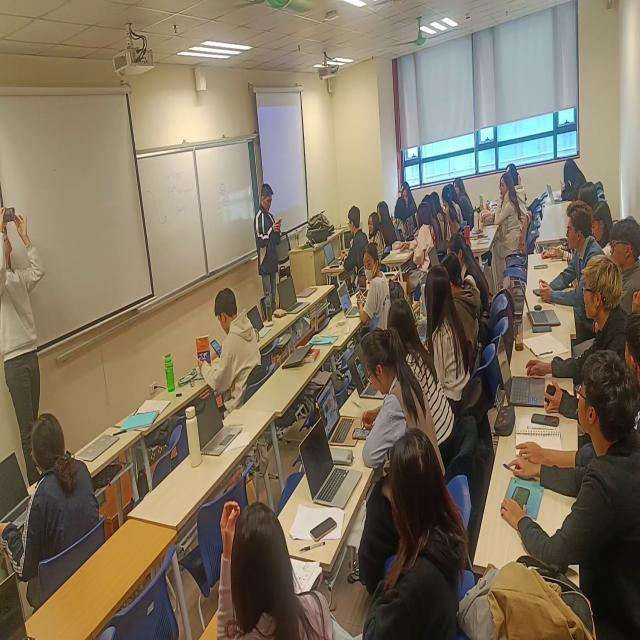raise_hand: (213, 494, 359, 640)
raise_head: (494, 343, 640, 640), (539, 252, 640, 386), (387, 298, 458, 454), (535, 201, 614, 315), (604, 209, 640, 307), (622, 309, 640, 397), (454, 177, 476, 232), (506, 164, 518, 177)
stand: (1, 186, 49, 498), (252, 177, 291, 335)
using_computer: (1, 401, 114, 588), (321, 204, 372, 290)
using_phone: (350, 321, 450, 492), (195, 286, 270, 433), (560, 157, 590, 208)
